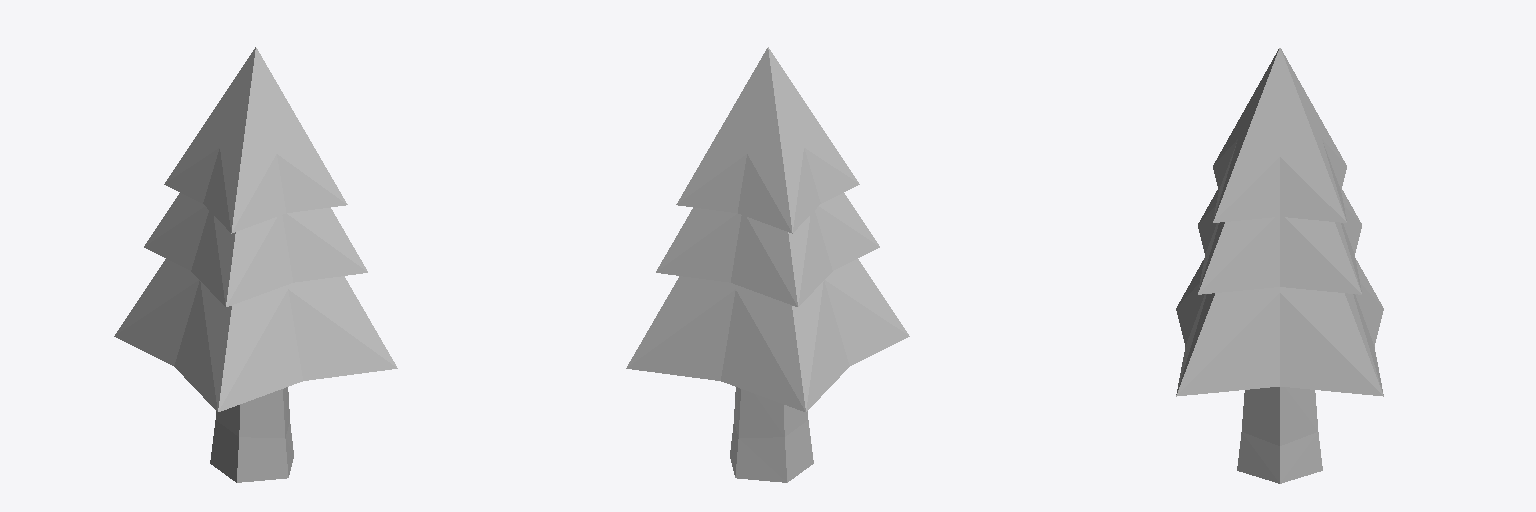
Rendered from tree.obj.
3 views of the same model, side by side, from view 1: azimuth 30°, elevation 25°; view 2: azimuth 150°, elevation 25°; view 3: azimuth 270°, elevation 25° (orthographic).
Parts seen in each view (by area): view 1: Tree_Mesh.003, Stump_Mesh; view 2: Tree_Mesh.003, Stump_Mesh; view 3: Tree_Mesh.003, Stump_Mesh.
Part boxes in pixels (bbox=[...]): Tree_Mesh.003: bbox=[114, 47, 397, 437]; Stump_Mesh: bbox=[210, 420, 293, 482]; Tree_Mesh.003: bbox=[626, 47, 909, 437]; Stump_Mesh: bbox=[730, 420, 813, 482]; Tree_Mesh.003: bbox=[1176, 48, 1383, 445]; Stump_Mesh: bbox=[1237, 432, 1322, 483].
Size of the model in its own units: 1.48 by 3.28 by 1.48.